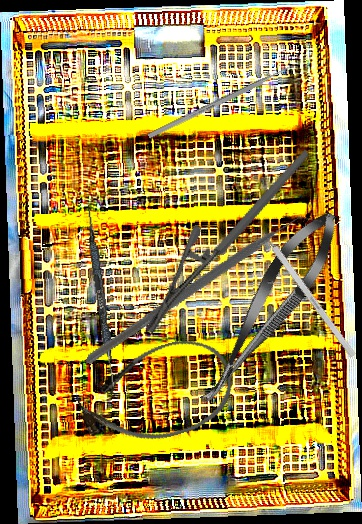Cannula: (69, 329, 242, 459)
Chopper: (85, 156, 322, 427)
Hook Surgical: (253, 221, 357, 358)
Micro Scissor: (186, 201, 352, 415)
Needle Holder: (107, 149, 349, 337)
Pusher: (147, 59, 303, 139)
Spatula Surgical: (80, 204, 122, 395)
